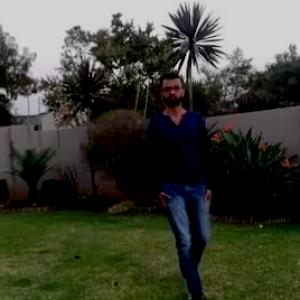follow: (157, 84, 215, 281)
